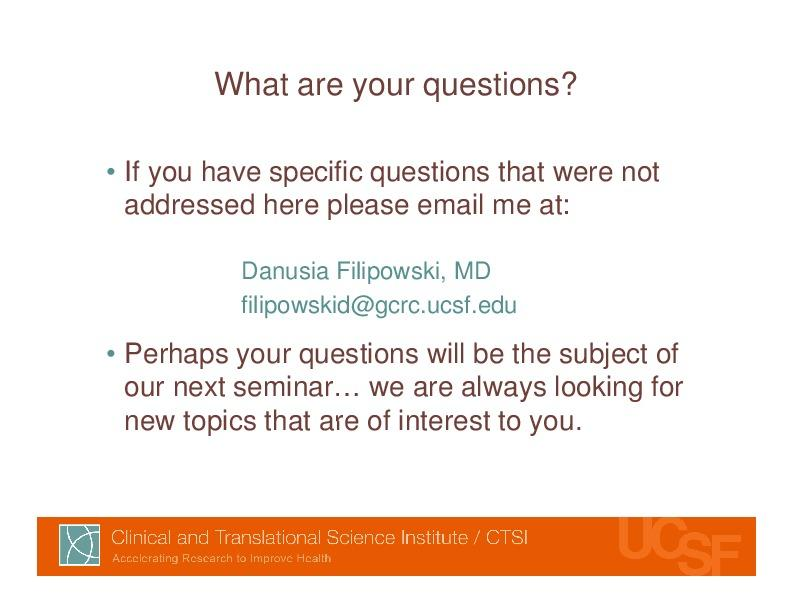paragraph: (82, 133, 727, 472)
title: (202, 57, 589, 106)
